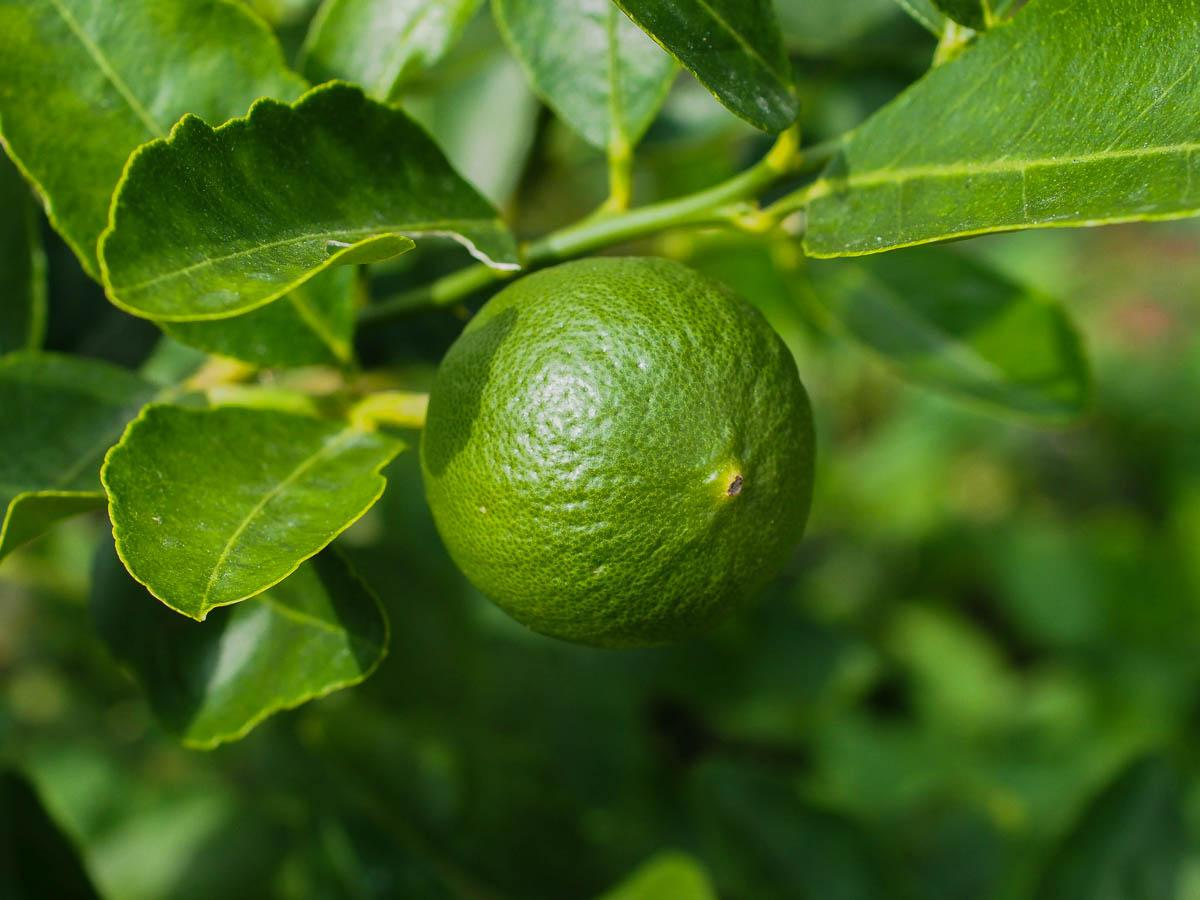lime: (403, 244, 836, 653)
